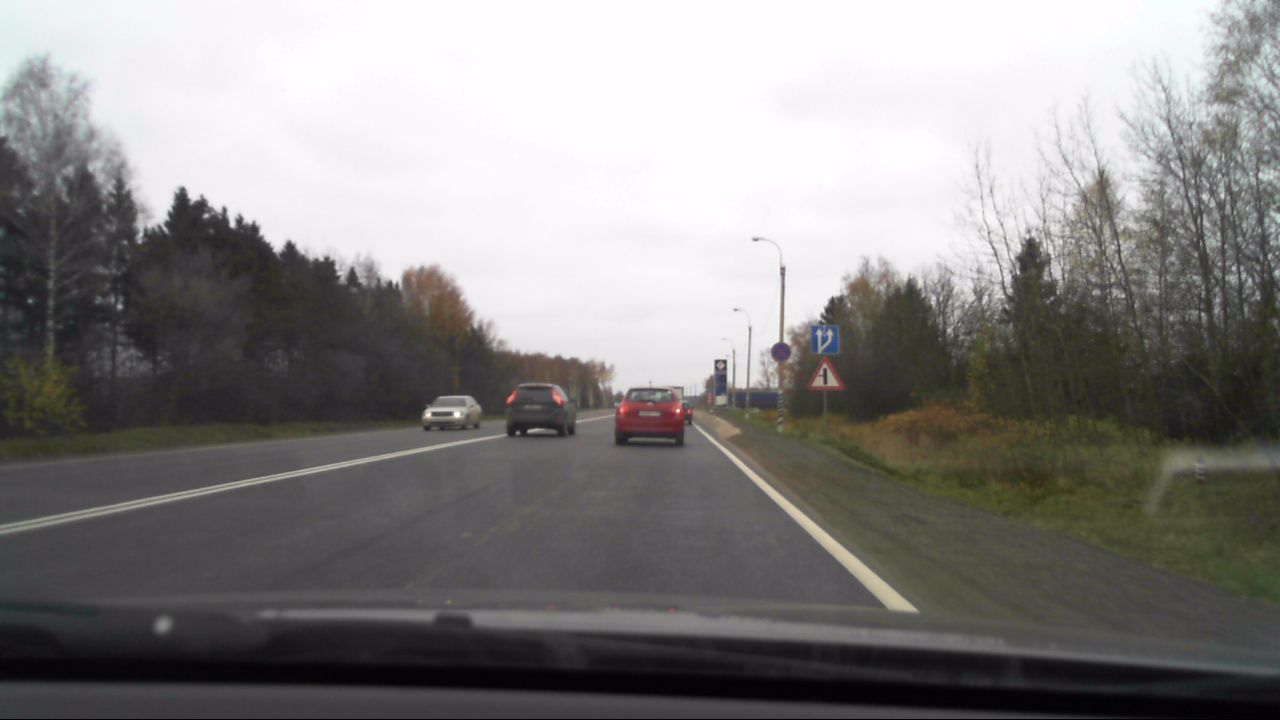No Parking: (767, 339, 792, 363)
